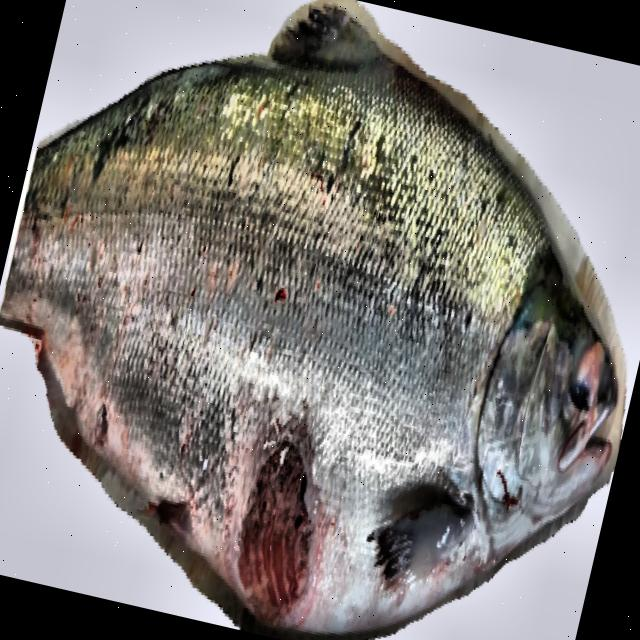mild_red: (0, 67, 547, 520)
wound: (238, 441, 314, 618)
